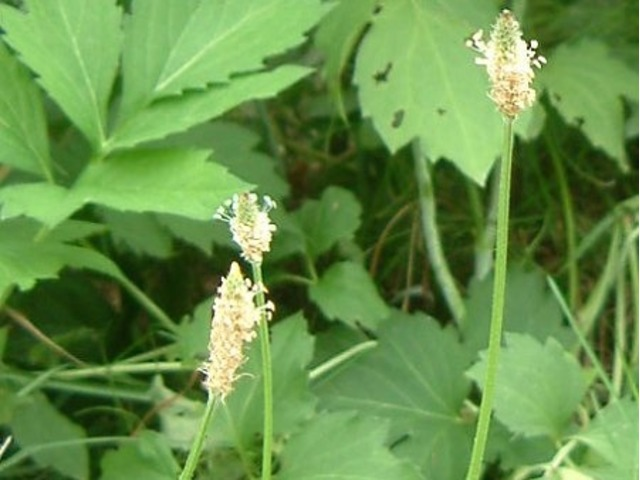buckhorn plantain: (216, 188, 302, 398), (460, 7, 547, 185), (198, 255, 261, 473)
